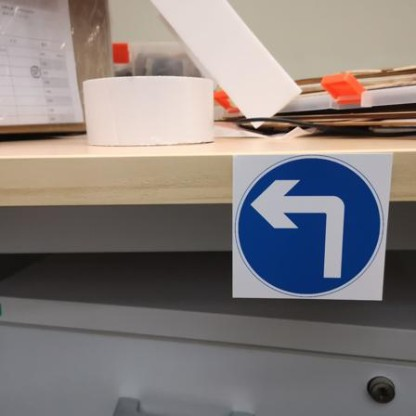left: (231, 153, 387, 301)
